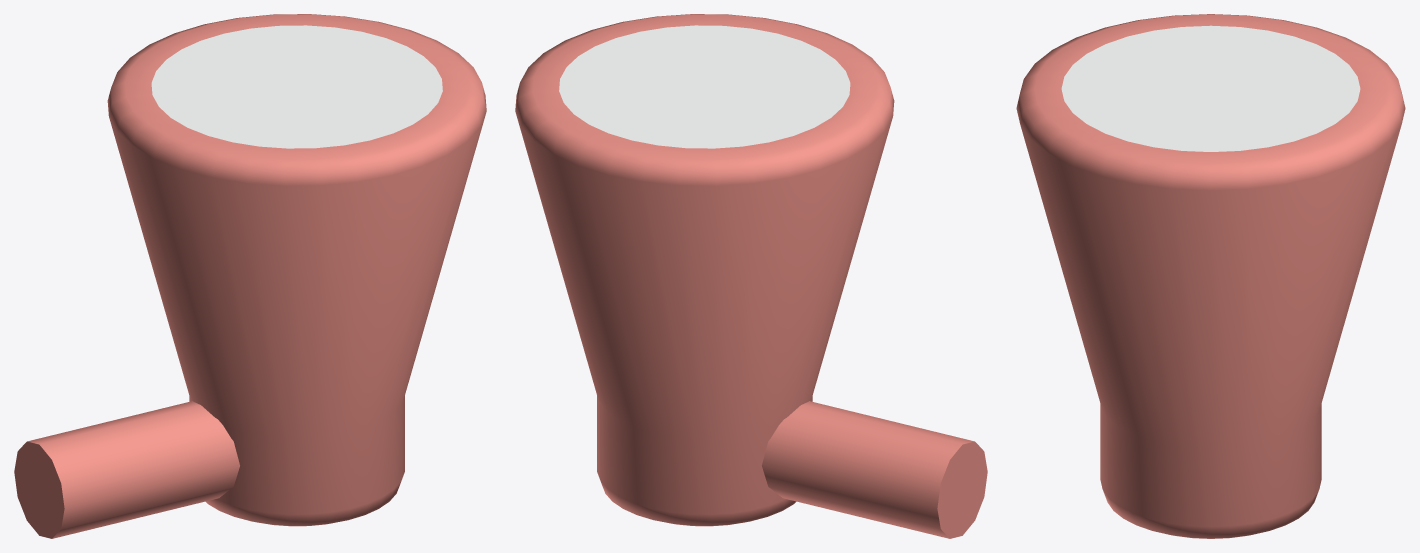
File: Voronka.fbx
The picture shows the model from 3 angles, left to right: view 1: azimuth 30°, elevation 25°; view 2: azimuth 150°, elevation 25°; view 3: azimuth 270°, elevation 25°; orthographic projection. The views are drawn at different scales.
Parts seen in each view (by area): view 1: Voronka; view 2: Voronka; view 3: Voronka.
Part boxes in pixels (left/top/right/bottom): Voronka: left=14, top=14, right=486, bottom=538; Voronka: left=515, top=14, right=987, bottom=538; Voronka: left=1016, top=14, right=1405, bottom=538.
Bounding box in the file's own units: 1.71 × 1.55 × 1.33.
